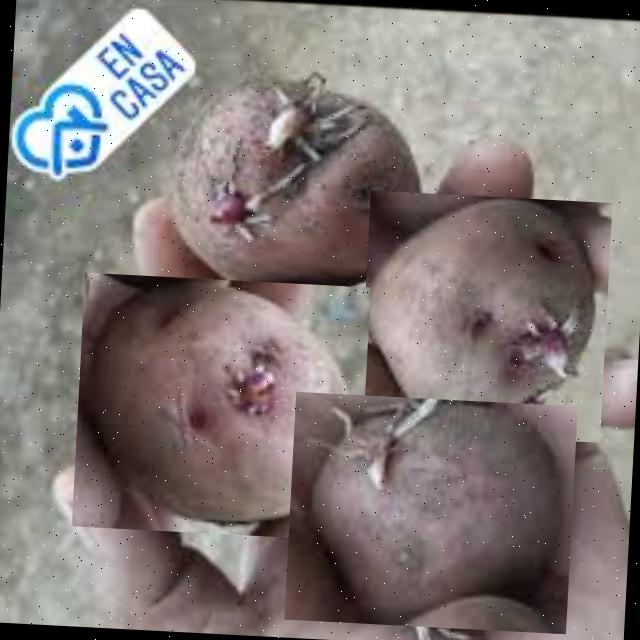Sprouted potato: (72, 273, 371, 542), (284, 392, 578, 634), (358, 190, 612, 442), (158, 62, 423, 296)
